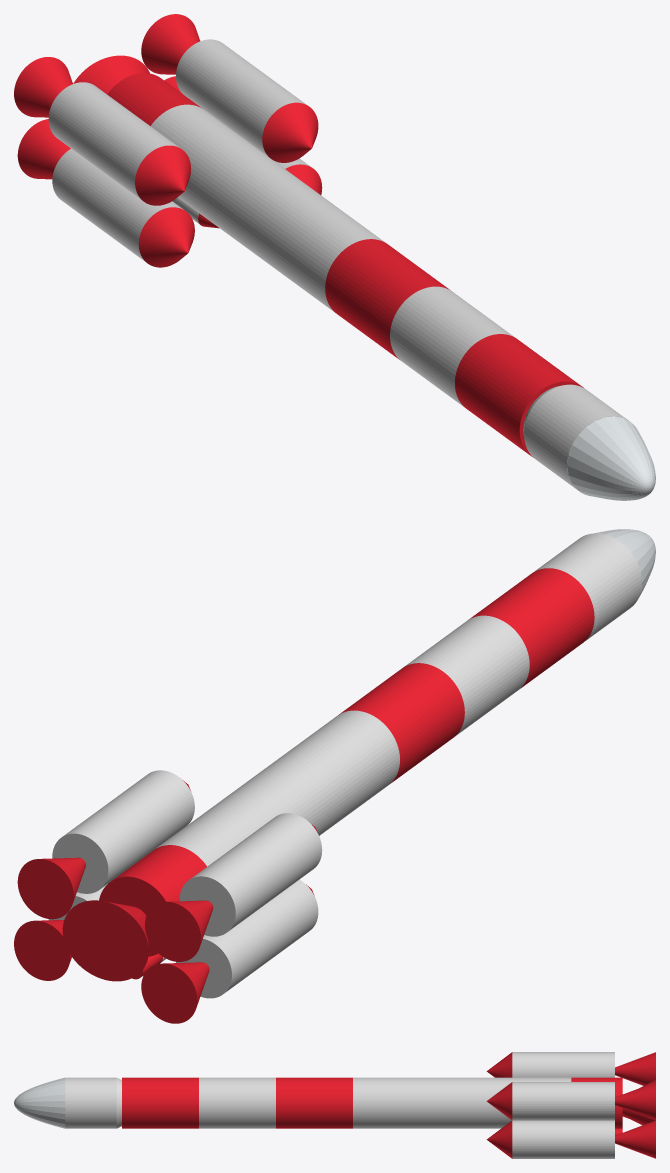
File: tinker.obj
3 renders of one model, top to bottom at view 1: azimuth 30°, elevation 25°; view 2: azimuth 150°, elevation 25°; view 3: azimuth 270°, elevation 25°, orthographic. The views are drawn at different scales.
Visible parts, largest first — view 1: group_0_16448250, group_0_15277357, group_0_14541540; view 2: group_0_16448250, group_0_15277357, group_0_14541540; view 3: group_0_16448250, group_0_15277357, group_0_14541540.
Boxes of the visible parts, x1=… form: group_0_16448250: x1=48, y1=39, x2=635, y2=496; group_0_15277357: x1=14, y1=14, x2=583, y2=457; group_0_14541540: x1=567, y1=416, x2=655, y2=500; group_0_16448250: x1=48, y1=533, x2=641, y2=998; group_0_15277357: x1=14, y1=568, x2=594, y2=1023; group_0_14541540: x1=595, y1=529, x2=655, y2=596; group_0_16448250: x1=65, y1=1052, x2=614, y2=1158; group_0_15277357: x1=122, y1=1052, x2=655, y2=1158; group_0_14541540: x1=14, y1=1077, x2=65, y2=1128.
Bounding box in the file's own units: 50 × 34 × 250.
